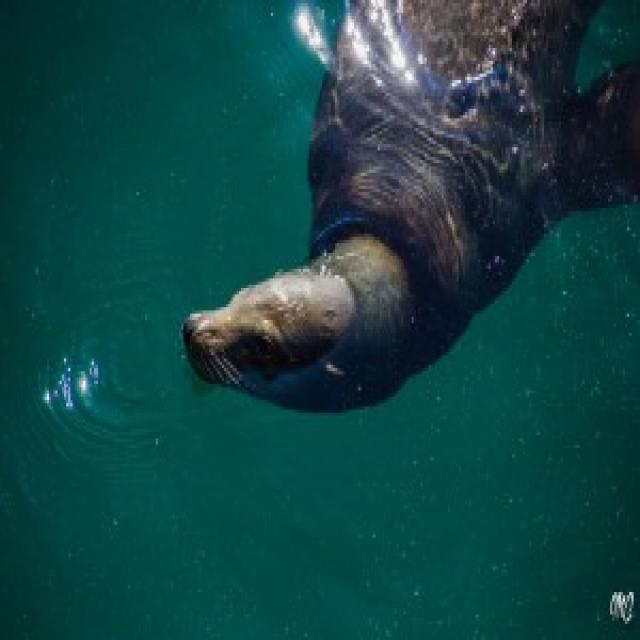Seal: (184, 18, 640, 398)
